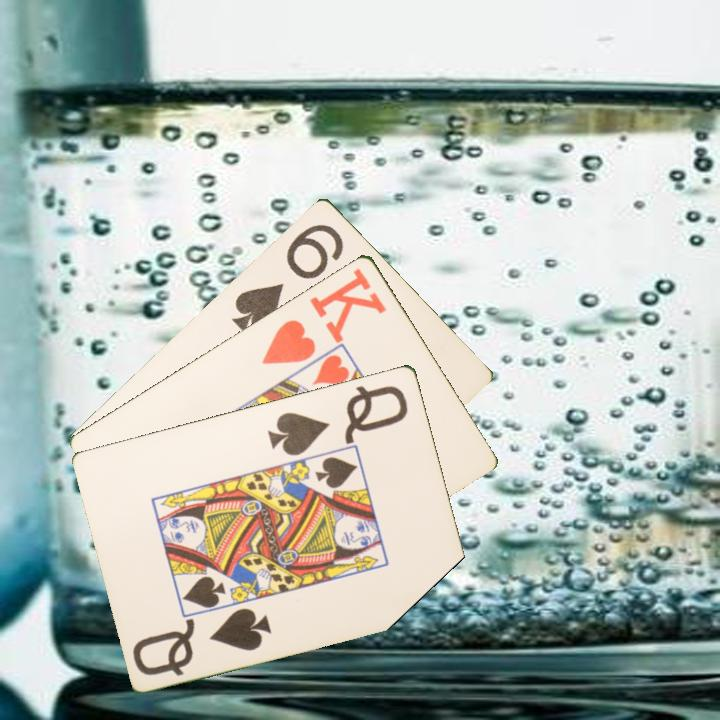6s: (228, 219, 347, 336)
Kh: (258, 263, 390, 367)
Qs: (264, 381, 412, 459), (129, 603, 275, 679)
